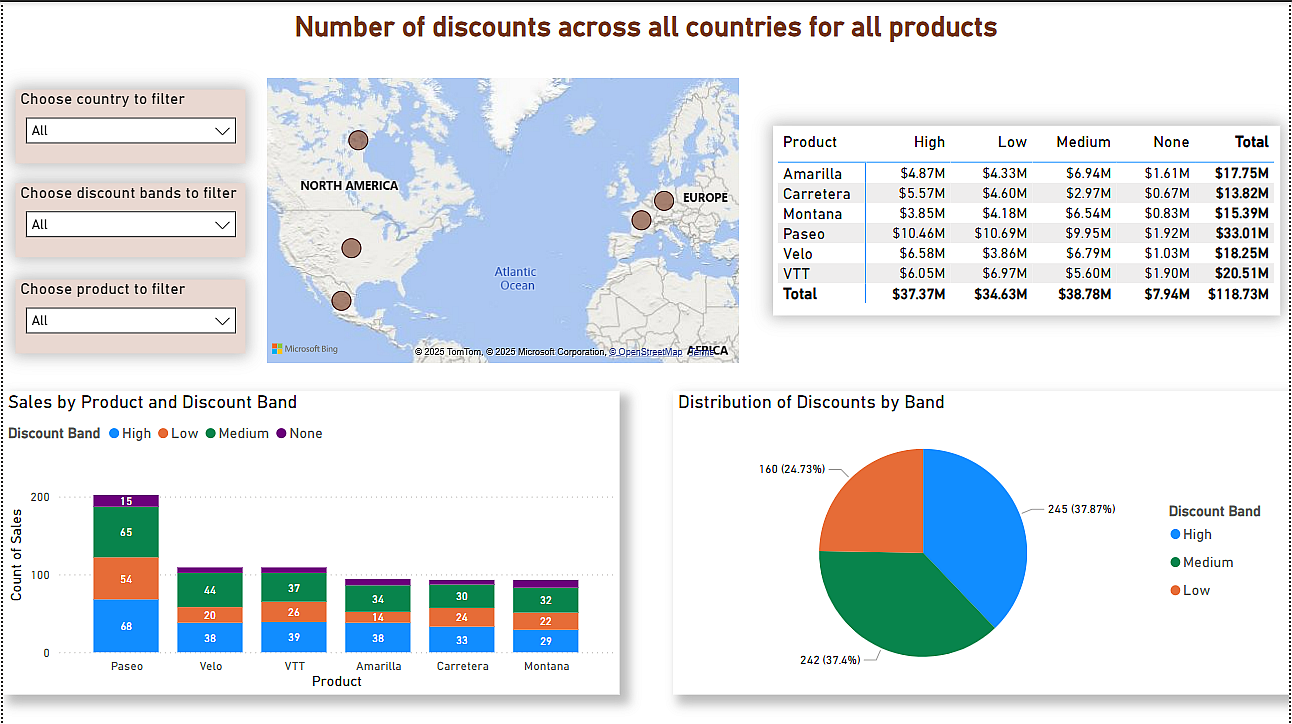

The dashboard page shown, as its layout file describes it:
{"tool":"powerbi","page":{"name":"Discounts","canvas":[1280,720],"ordinal":1},"visuals":[{"type":"pieChart","title":"Distribution of Discounts by Band","fields":{"Category":["financials (2).Discount Band"],"Y":["CountNonNull(financials (2).Discounts)"]},"box":[666.8,386.9,613.3,302.3],"z":0},{"type":"map","title":"Map","fields":{"Category":["financials (2).Country"],"Size":["CountNonNull(Financials.Discount Band)"]},"box":[257.5,70.9,480.2,293.6],"z":1000},{"type":"columnChart","title":"Sales by Product and Discount Band","fields":{"Category":["financials (2).Product"],"Y":["CountNonNull(financials (2). Sales)"],"Series":["financials (2).Discount Band"]},"box":[0,386.9,613.3,302.3],"z":2000},{"type":"slicer","title":"Choose product to filter","fields":{"Values":["Financials.Product"]},"box":[12.4,276.2,228.9,73.4],"z":3000},{"type":"slicer","title":"Choose discount bands to filter","fields":{"Values":["Financials.Discount Band"]},"box":[12.4,180.4,228.9,73.4],"z":4000},{"type":"slicer","title":"Choose country to filter","fields":{"Values":["Financials.Country"]},"box":[12.4,87.1,228.9,73.4],"z":5000},{"type":"textbox","box":[0,8.7,1280,34.8],"z":6000},{"type":"pivotTable","fields":{"Columns":["Financials.Discount Band"],"Rows":["Financials.Product"],"Values":["Sum(Financials. Sales)"]},"box":[766.3,123.2,505,189.1],"z":7000}]}

Visuals, with their boxes in screenshot pixels (x1, y1, x2, y2), scaled from the page's 1280x720 canvas onto the 1292x724 screenshot:
"Distribution of Discounts by Band" pieChart: l=673, t=389, r=1291, b=693
"Map" map: l=260, t=71, r=745, b=367
"Sales by Product and Discount Band" columnChart: l=0, t=389, r=619, b=693
"Choose product to filter" slicer: l=13, t=278, r=244, b=352
"Choose discount bands to filter" slicer: l=13, t=181, r=244, b=255
"Choose country to filter" slicer: l=13, t=88, r=244, b=161
textbox: l=0, t=9, r=1291, b=44
pivotTable - Financials.Discount Band x Financials.Product: l=773, t=124, r=1283, b=314
